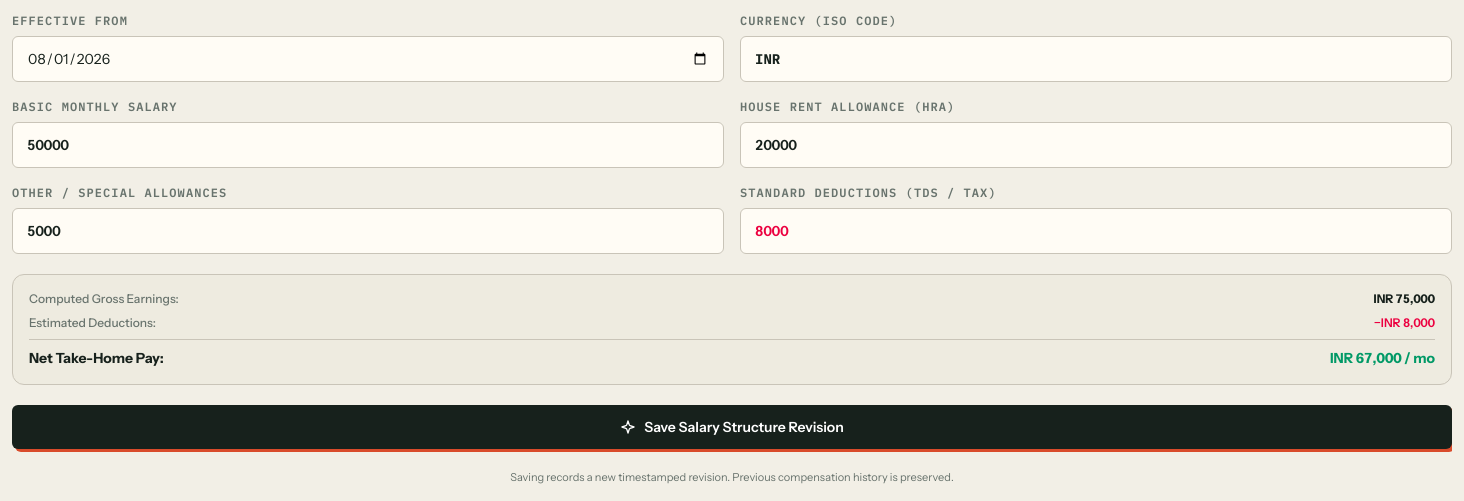
Test case: SalaryForm › updates gross and net take-home pay while salary fields are edited
The width and height of the screenshot is (1464, 501).
Expected: the text "INR 75,000" is shown, [1374, 291, 1435, 307]
Expected: the text "INR 67,000 / mo" is shown, [1330, 348, 1435, 368]
Step 1. Replace the text in the number field labelled "Basic Monthly Salary" with "60000" → (368,145), box [12, 122, 724, 168]
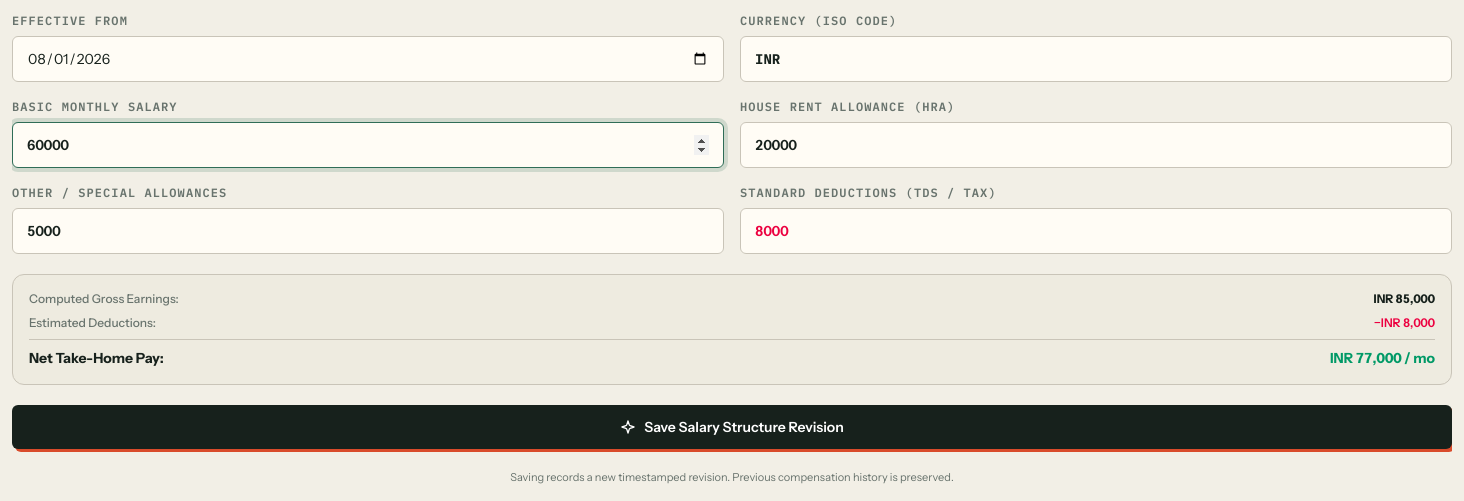
Step 2. Replace the text in the number field labelled "Standard Deductions (TDS / Tax)" with "10000" → (1096,231), box [740, 208, 1452, 254]
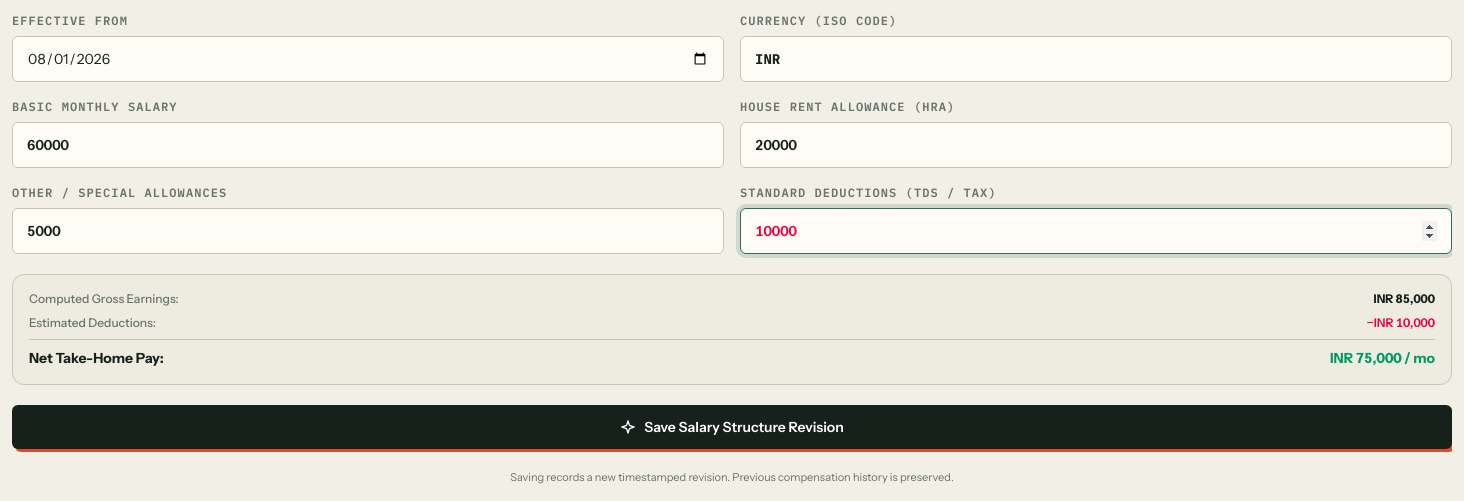
Now the text "INR 85,000" is shown, box [1374, 291, 1435, 307]
Now the text "INR 75,000 / mo" is shown, box [1330, 348, 1435, 368]
